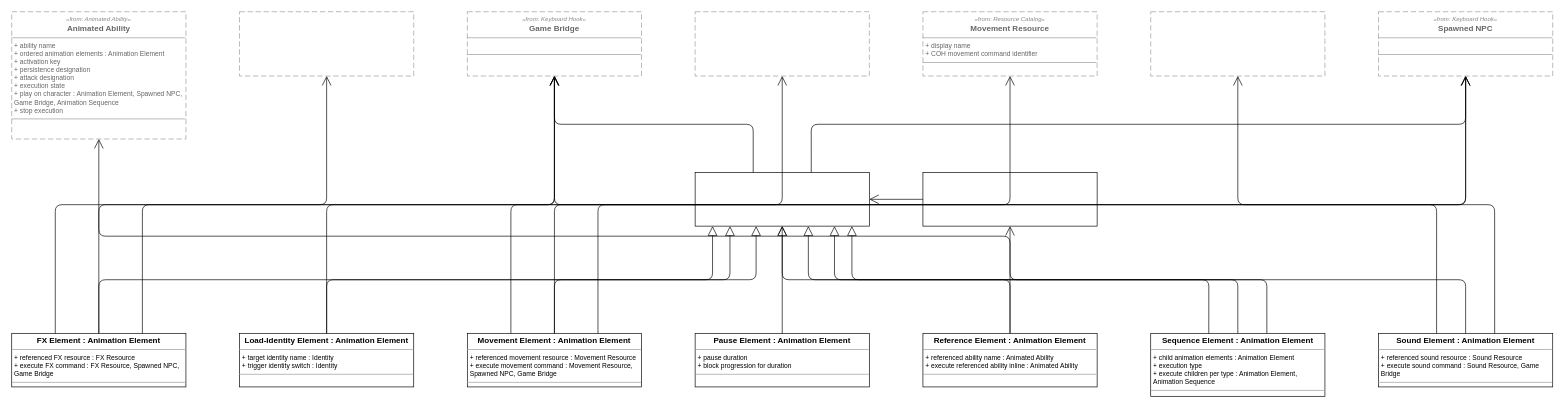
Some shapes in this 1564 by 408 pixel diagram are drawn without their labels. Each missing label, with the box of its shape:
Animation Element + display order position + execute : Spawned NPC, Game Bridge: (694, 172, 869, 226)
Animation Sequence + execution type + execute sequence : Animation Element: (922, 172, 1097, 226)
«from: Keyboard Hook» Identity: (694, 11, 869, 76)
«from: Resource Catalog» FX Resource + display name + COH FX command identifier: (239, 11, 414, 76)
«from: Resource Catalog» Sound Resource + display name + COH audio identifier: (1150, 11, 1325, 76)
